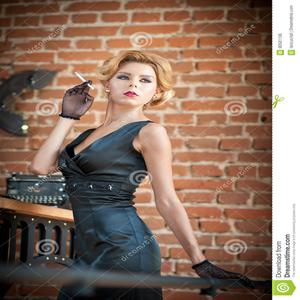cigarette: (72, 70, 96, 92)
